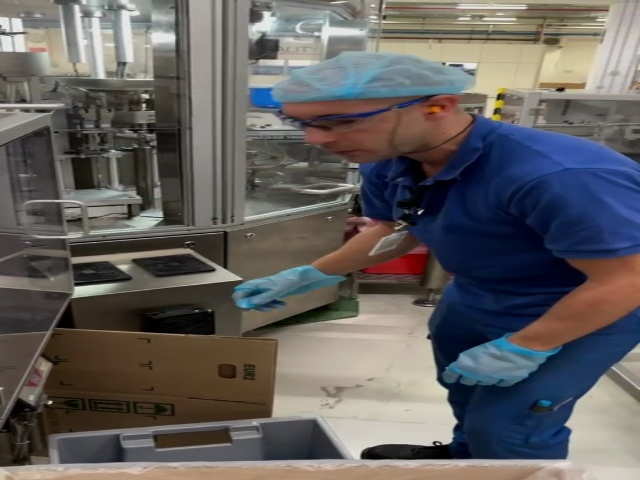Earplug: (424, 100, 453, 120)
Hairnet: (276, 53, 467, 101)
No_Helmet: (275, 53, 463, 97)
No_Vest: (360, 126, 640, 291)
Person: (276, 53, 640, 460)
Safety_Goggles: (278, 98, 438, 131)
